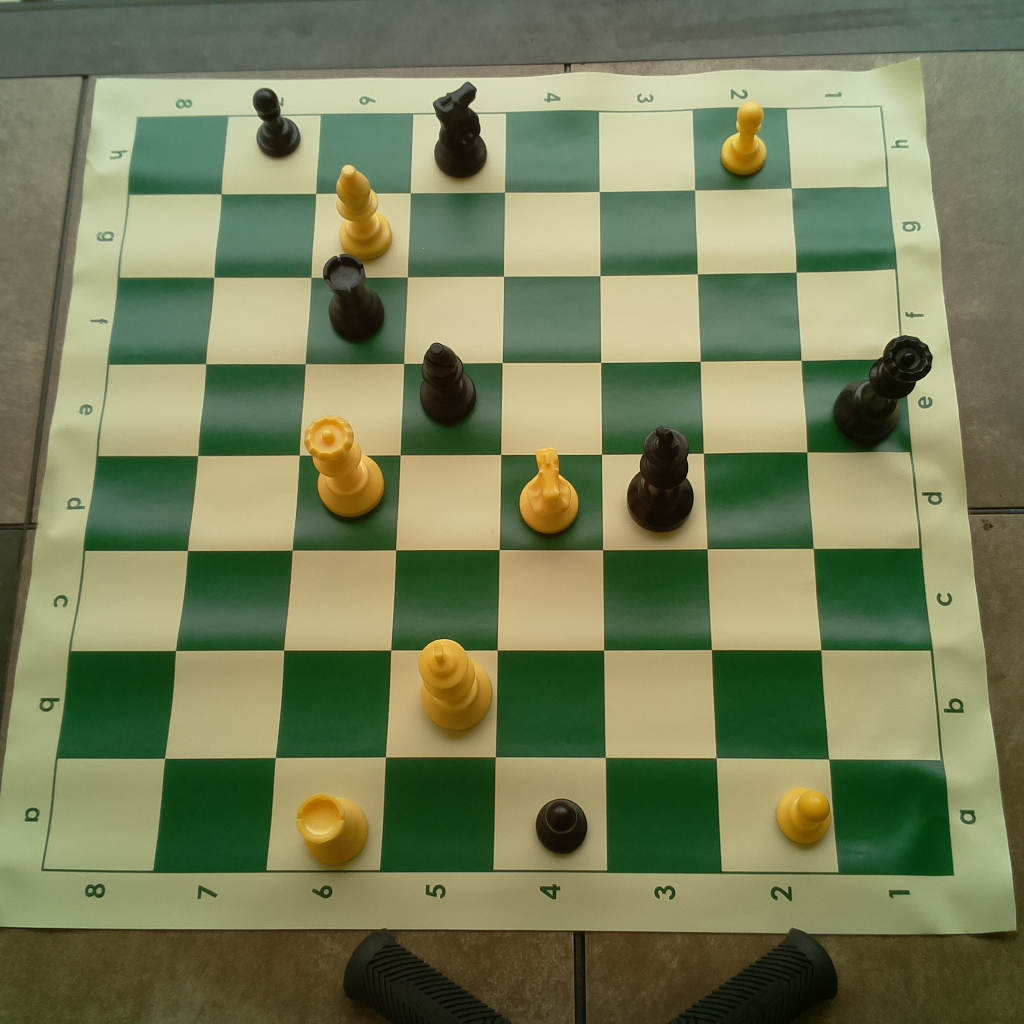black_bishop: (411, 336, 480, 430)
black_king: (623, 426, 697, 532)
black_knight: (423, 77, 493, 182)
black_pawn: (249, 83, 303, 156), (534, 792, 592, 853)
black_queen: (836, 332, 932, 453)
black_rook: (315, 251, 389, 344)
file_a: (40, 757, 958, 874)
file_b: (54, 651, 942, 761)
file_c: (71, 549, 931, 652)
file_d: (84, 453, 923, 549)
file_e: (98, 356, 911, 449)
file_f: (107, 270, 903, 361)
file_g: (120, 190, 896, 282)
file_h: (129, 106, 886, 199)
outline: (41, 106, 955, 874)
rank_1: (789, 104, 957, 874)
rank_2: (692, 105, 841, 871)
rank_3: (599, 109, 725, 873)
rank_4: (494, 112, 607, 871)
rank_5: (377, 113, 506, 875)
rank_6: (266, 112, 410, 871)
rank_7: (153, 113, 320, 870)
rank_8: (40, 114, 228, 870)
white_bishop: (328, 161, 398, 261)
white_king: (412, 636, 497, 732)
white_knight: (512, 445, 583, 536)
white_pawn: (771, 778, 840, 848), (720, 102, 772, 178)
white_queen: (297, 414, 386, 517)
white_rook: (292, 788, 373, 869)
